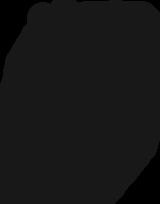fp: (1, 1, 160, 202)
